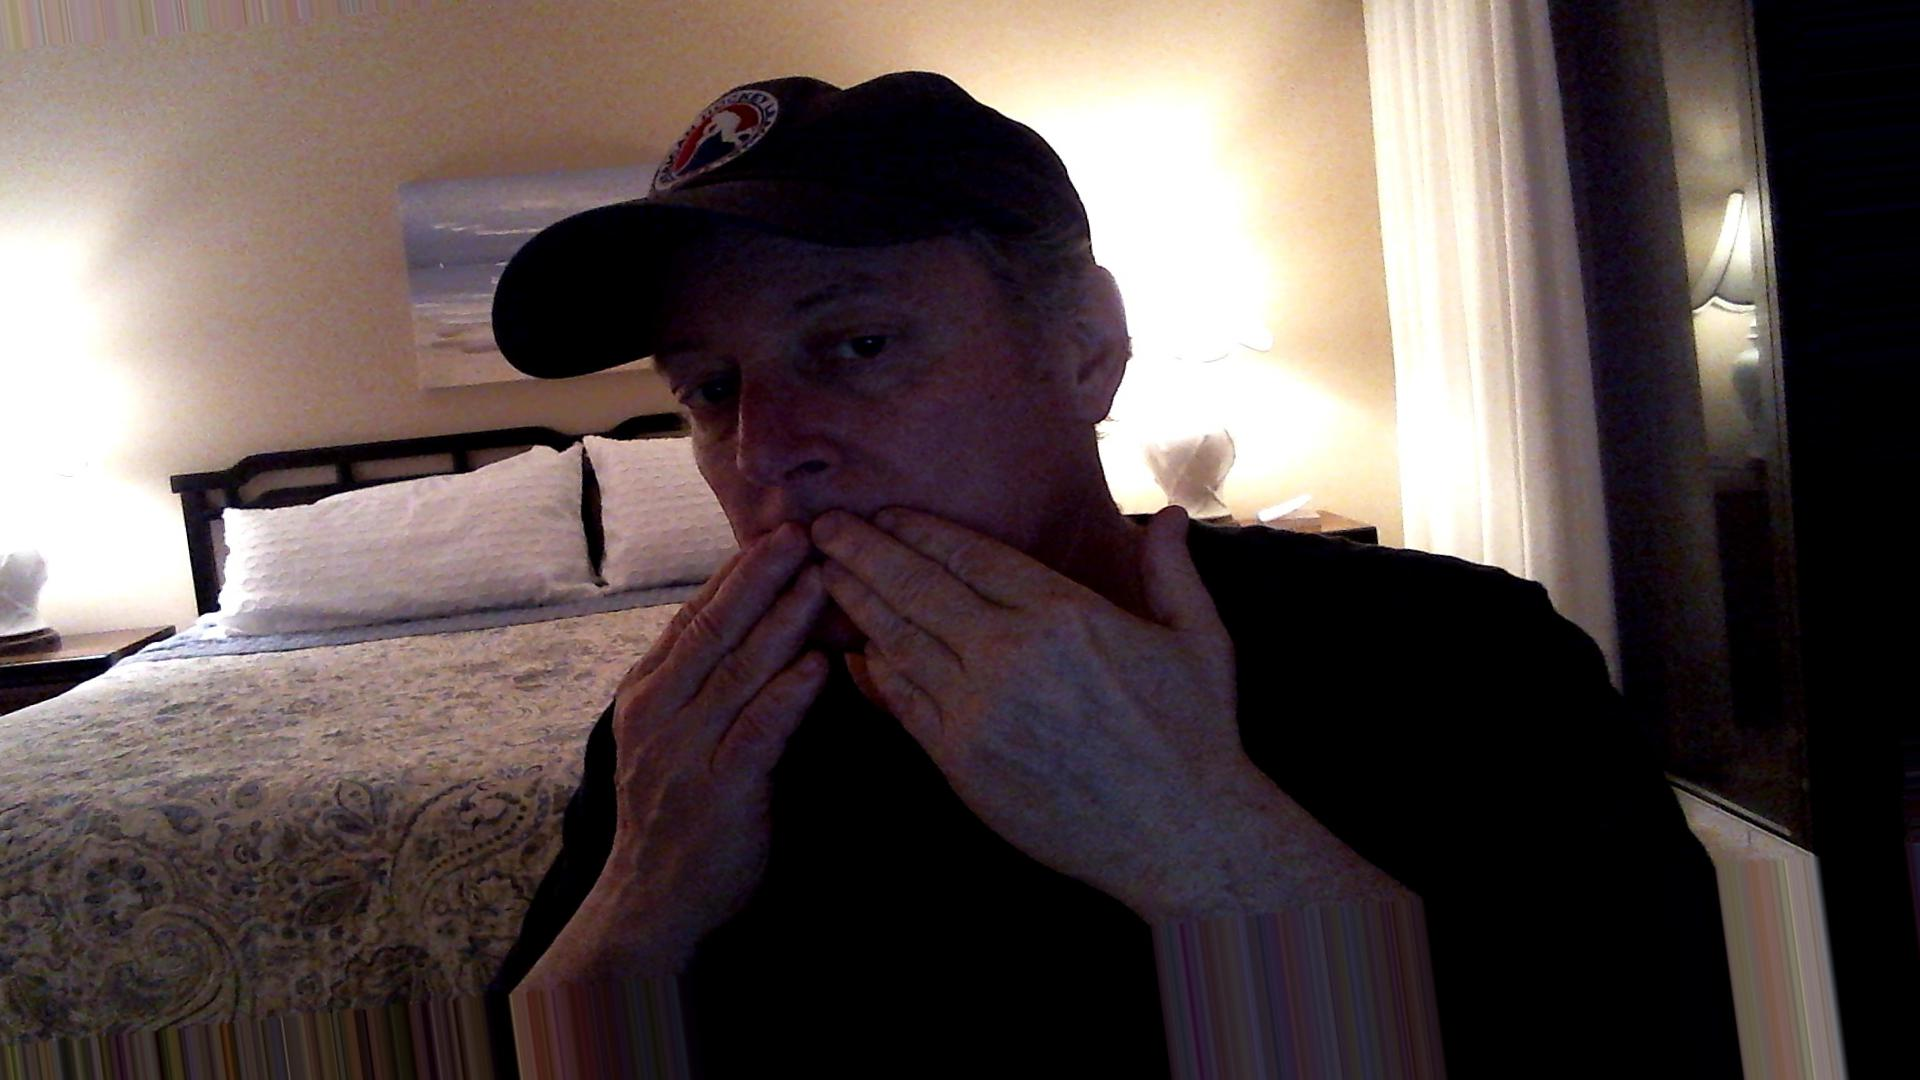Thank You: (583, 498, 1279, 864)
